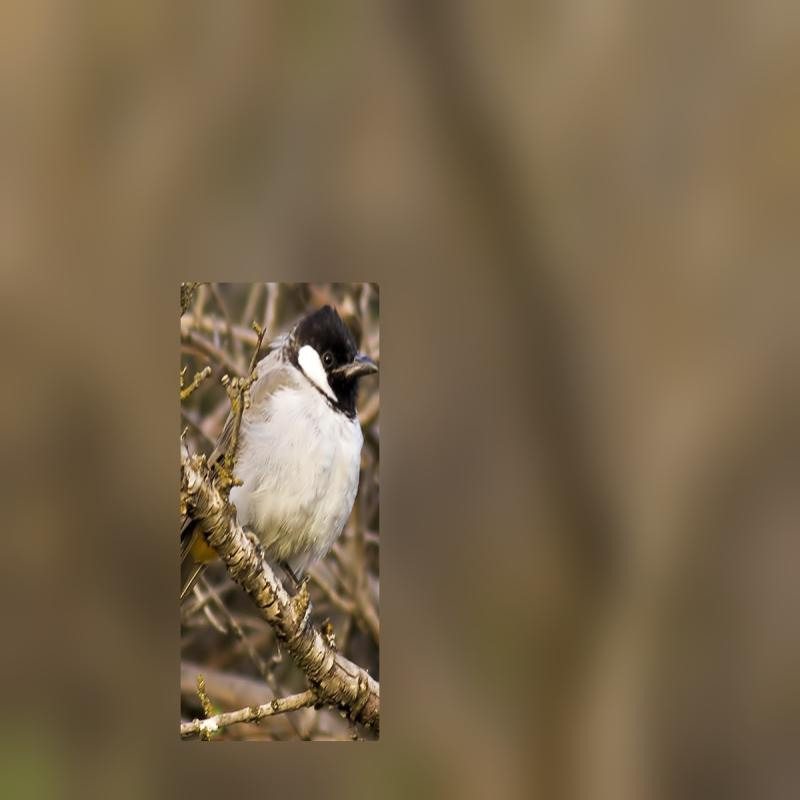white-eared bulbul: (197, 294, 380, 625)
